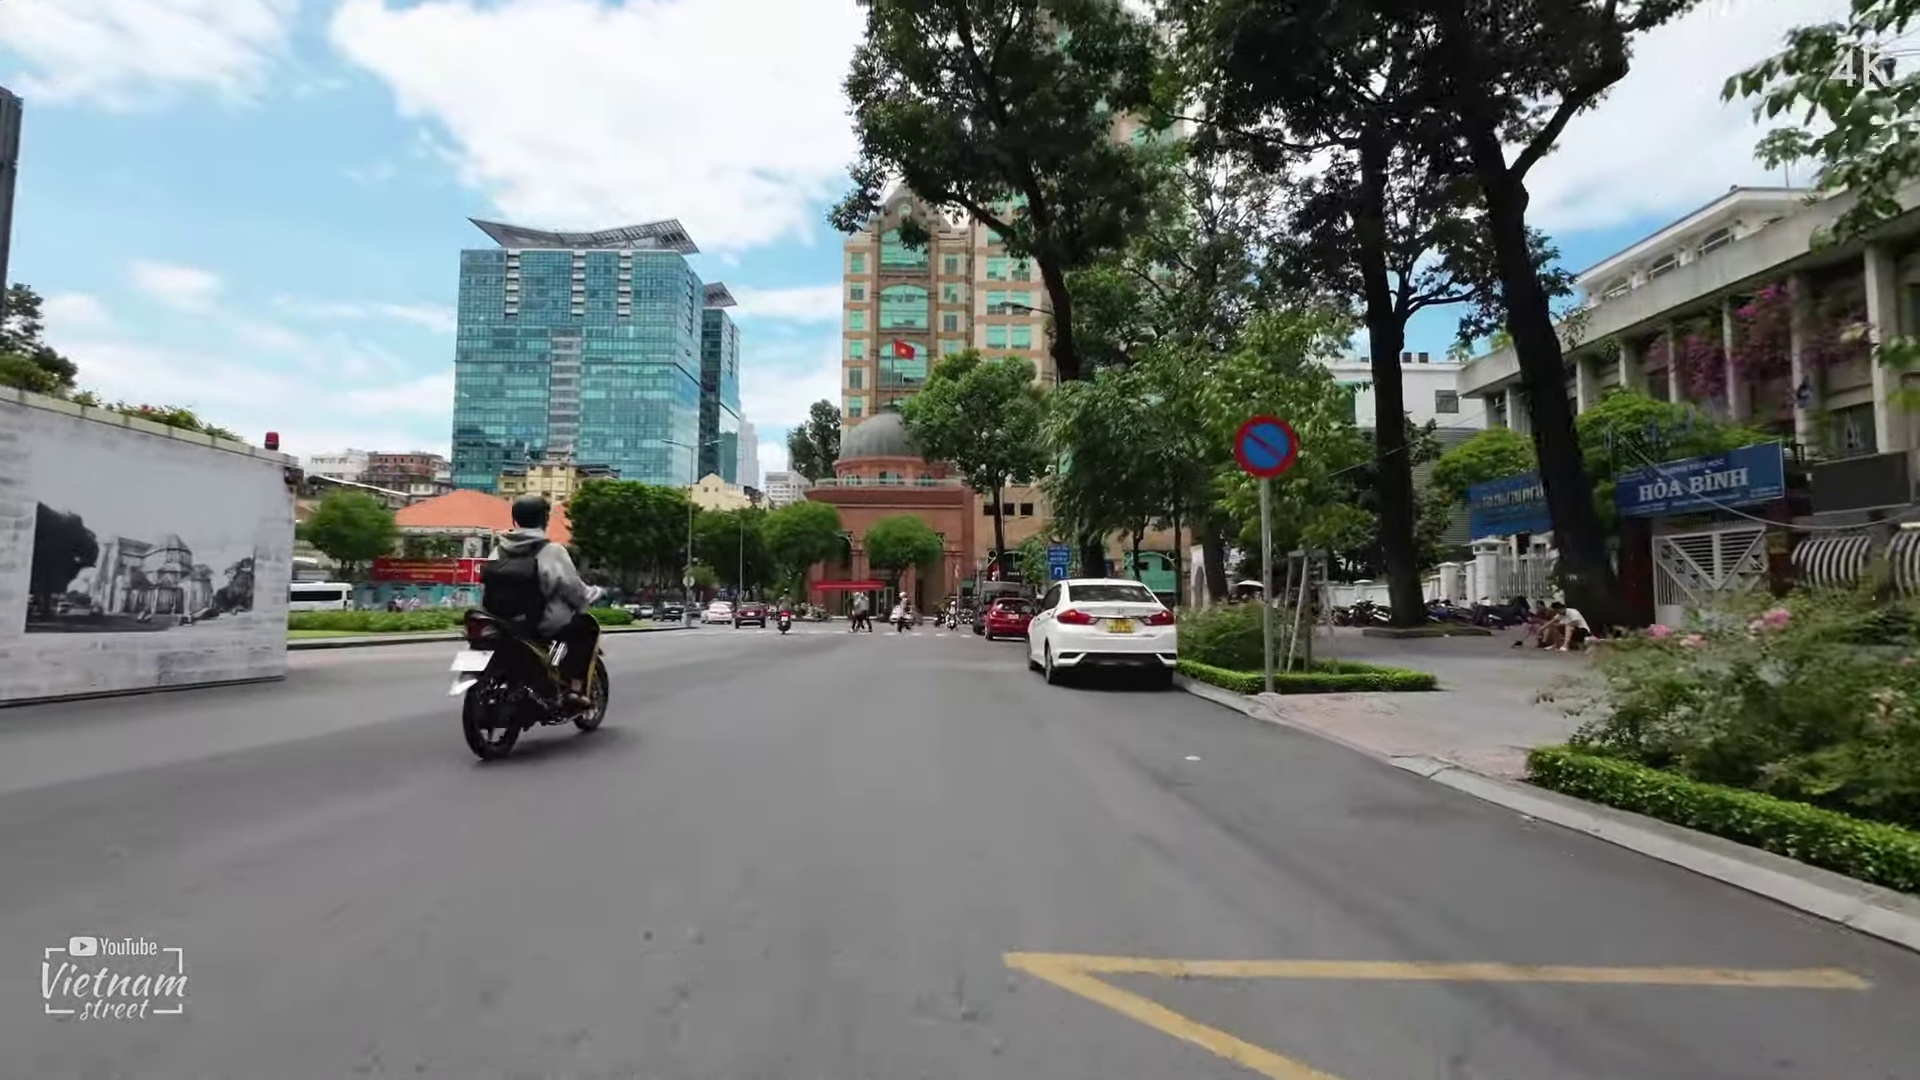cam_do_xe: (1232, 413, 1303, 479)
